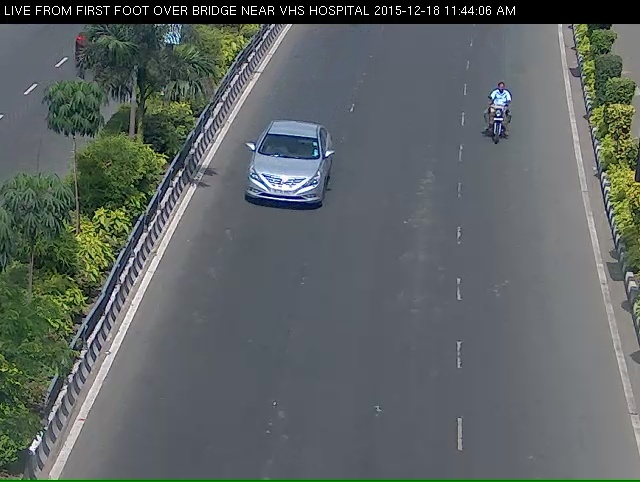Car: (231, 132, 329, 234)
Person: (481, 85, 513, 151)
